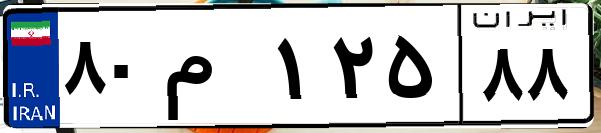0: (110, 28, 158, 98)
1: (270, 28, 330, 110)
2: (330, 28, 385, 110)
5: (385, 28, 445, 110)
8: (57, 26, 110, 100), (475, 38, 525, 113), (525, 38, 570, 115)
م: (158, 20, 270, 120)
